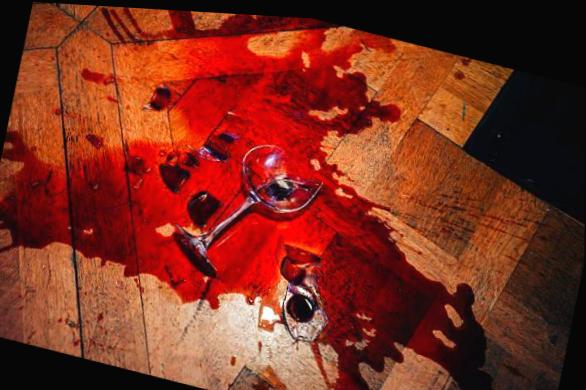Fire: (0, 5, 495, 390), (250, 363, 289, 390)
